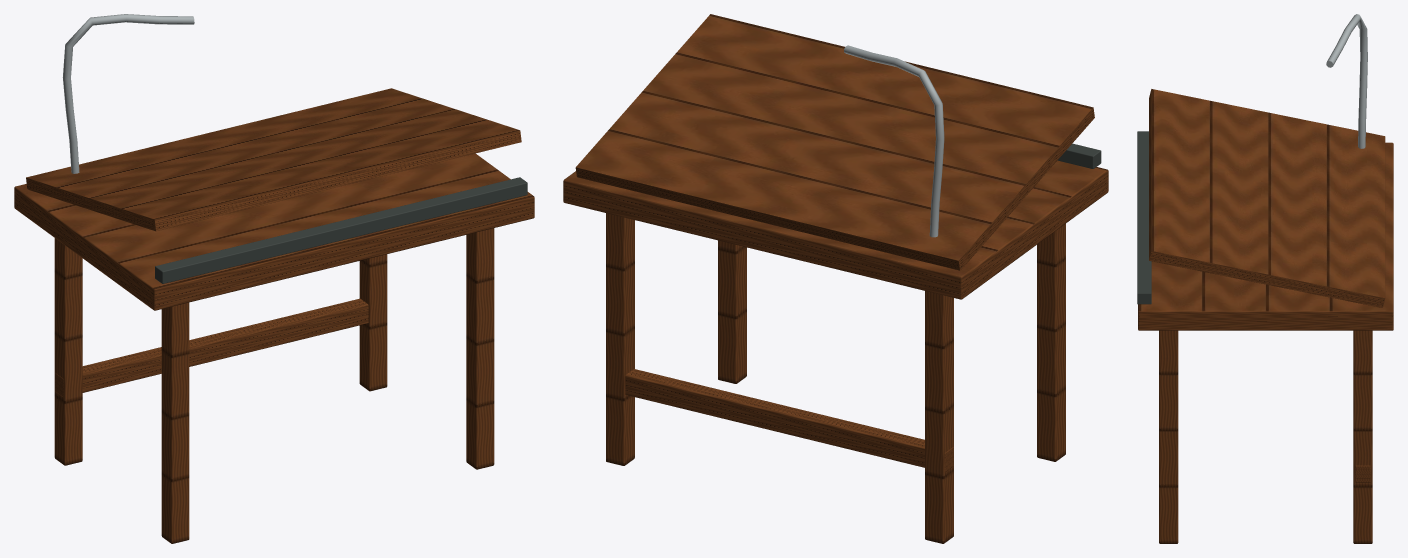
The model's file is research-and-crafting-progression-drafting-station-c66ca5c5__2832.glb.
3 renders of one model, left to right at view 1: azimuth 30°, elevation 25°; view 2: azimuth 150°, elevation 25°; view 3: azimuth 270°, elevation 25°, orthographic. The views are drawn at different scales.
Visible parts, largest first — view 1: drafting-station; view 2: drafting-station; view 3: drafting-station.
Part boxes in pixels (x1,y1,x2,y2): drafting-station: [14, 14, 534, 543]; drafting-station: [563, 14, 1108, 543]; drafting-station: [1137, 14, 1393, 543].
Bounding box in the file's own units: 1.25 × 1.38 × 0.8025.
3 materials, 1 textured.
